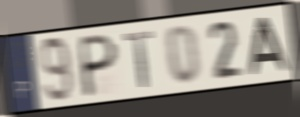0: (163, 23, 203, 88)
2: (207, 20, 244, 82)
9: (39, 34, 76, 106)
A: (248, 15, 292, 77)
P: (79, 31, 120, 99)
T: (122, 28, 155, 91)
